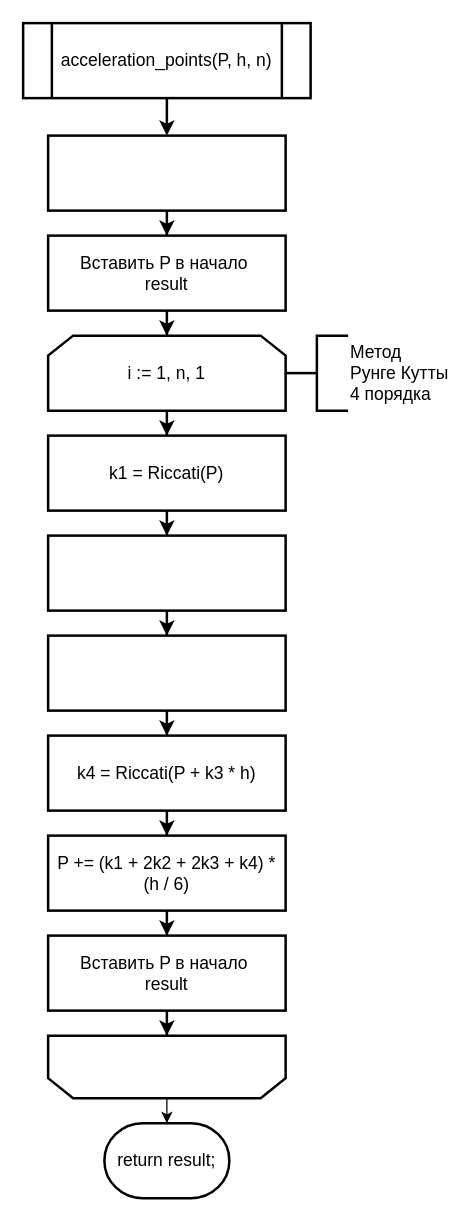
The diagram is 474 pixels wide and 1220 high, and some of its shapes have lost their labels. Here are the shapes that lost their labels. From the top down, the box of each, then its label:
(46, 134, 286, 211): deque result;
(46, 534, 286, 611): k2 = Riccati(P + k1 * h/2)
(46, 634, 286, 711): k3 = Riccati(P + k2 * h/2)
(46, 1034, 286, 1099): Конец цикла
